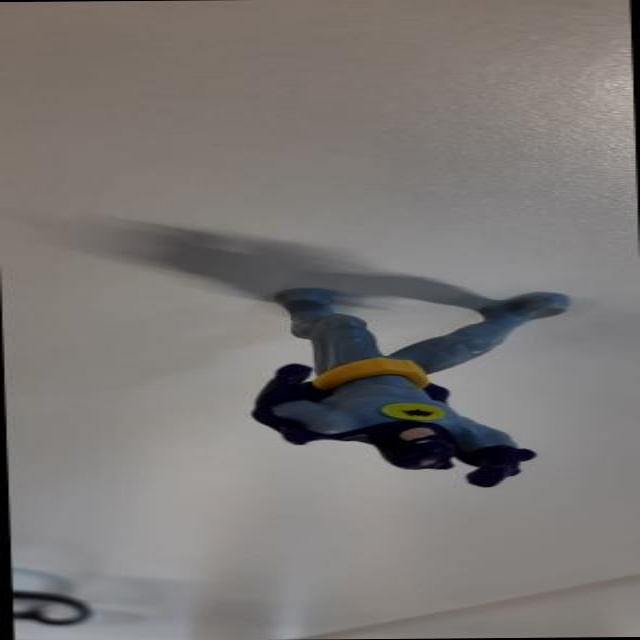Batman: (168, 241, 578, 506)
